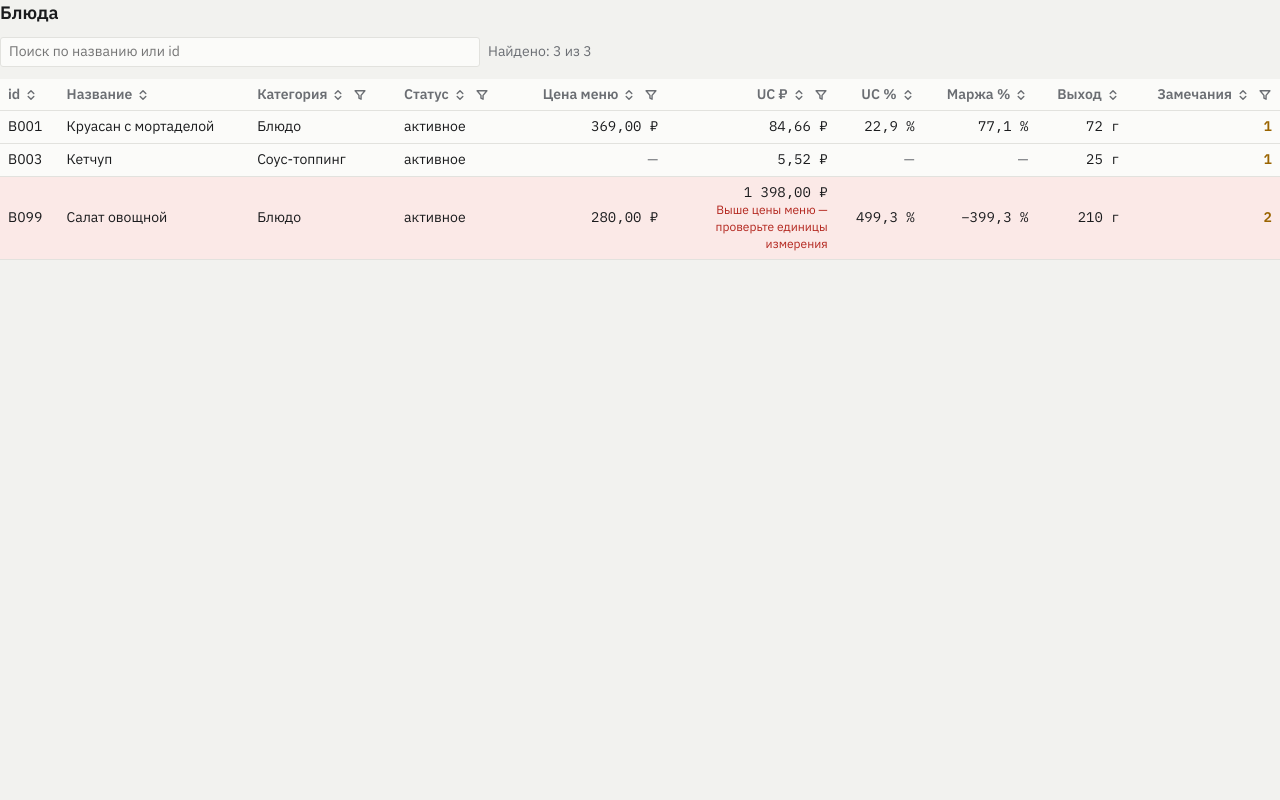
щелчок по строке при открытой панели фильтра только закрывает её
Click the button named "Фильтр: Статус": (482, 95) [471,84,493,106]
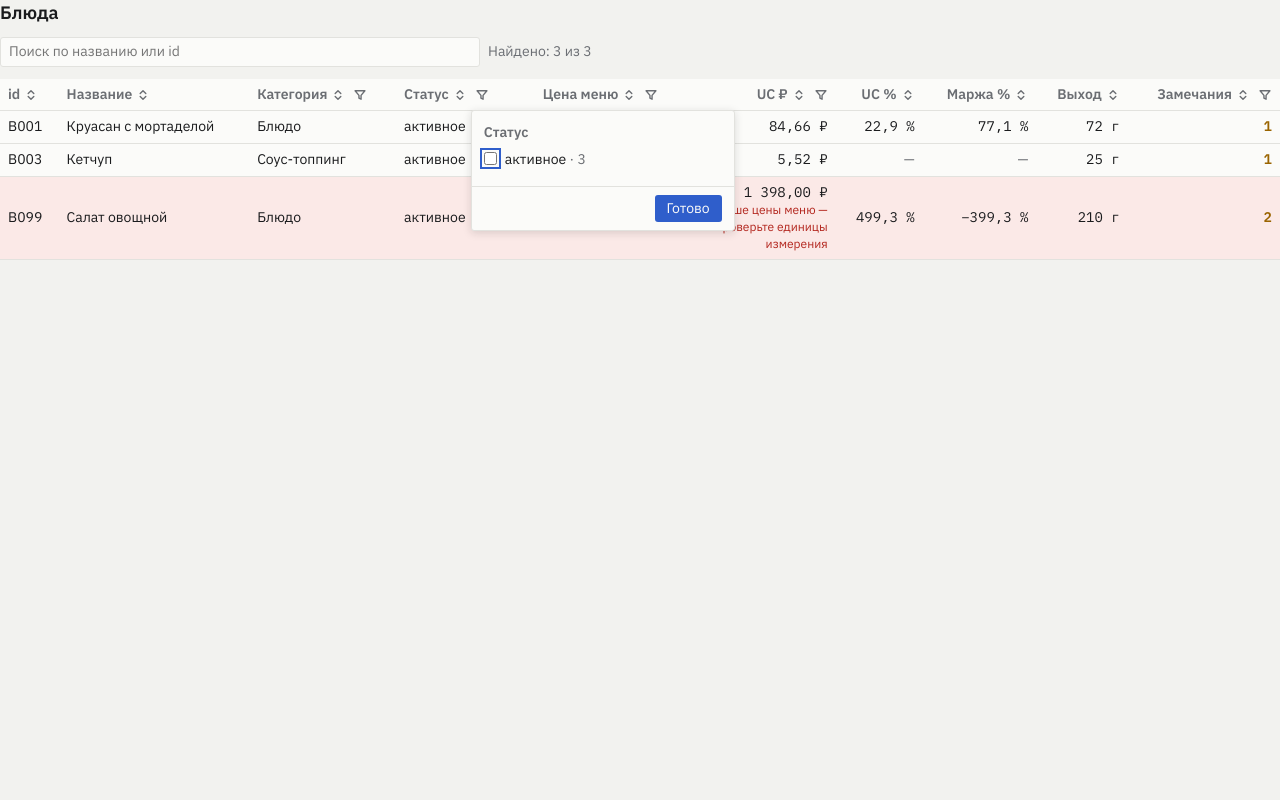
Expected: the dialog named "Фильтр: Статус" is shown, [471,110,735,231]
Click the text "Салат овощной": (154, 218) [59,176,249,259]
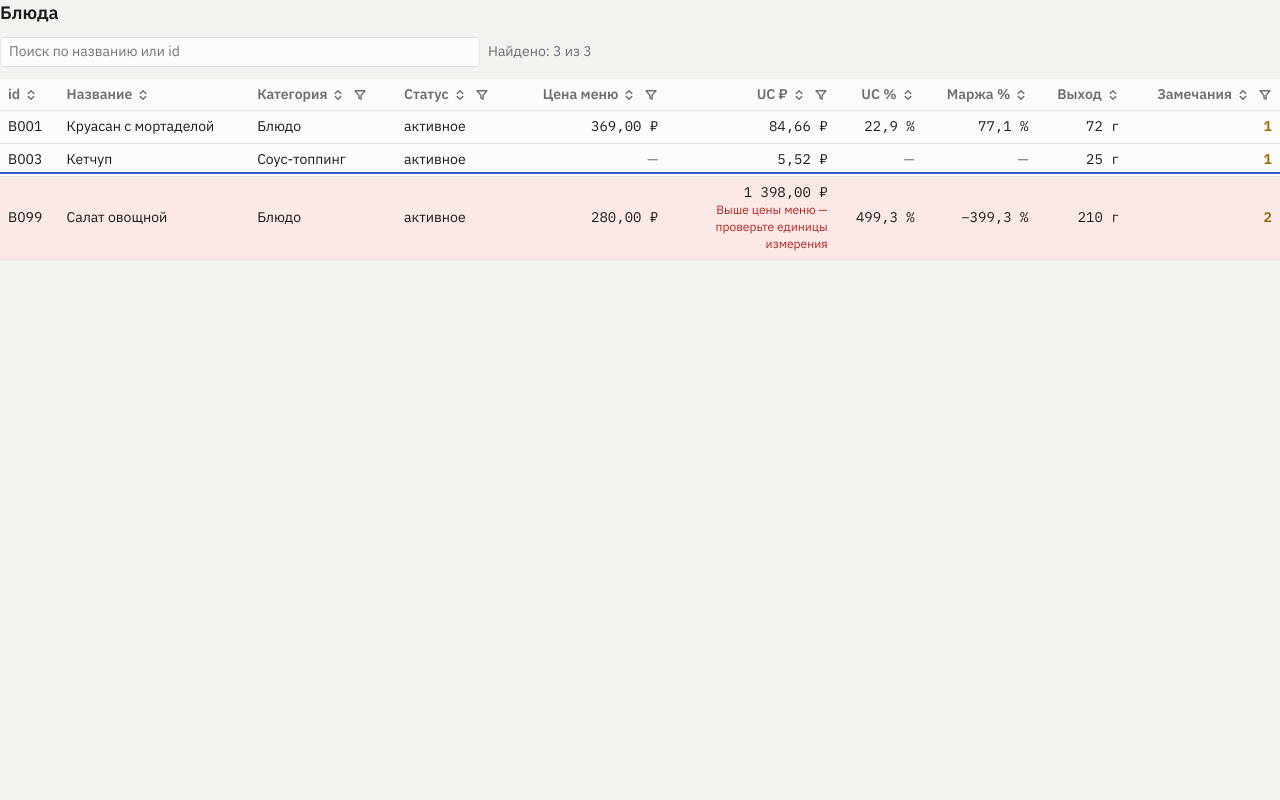
Expected: the dialog is gone
// Панели нет — следующий щелчок по строке открывает карточку.
Click the text "Салат овощной": (154, 218) [59,176,249,259]
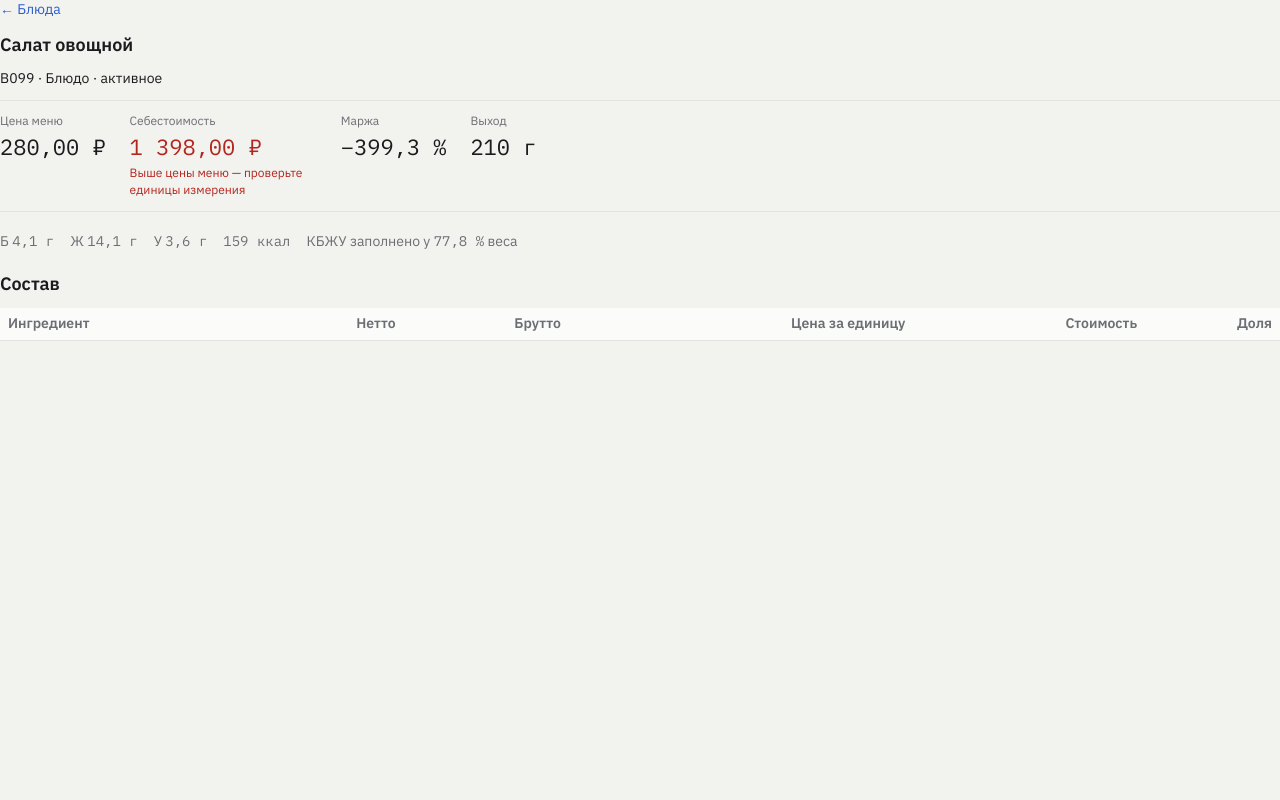
Expected: the link "← Блюда" is shown, [0,0,61,18]
